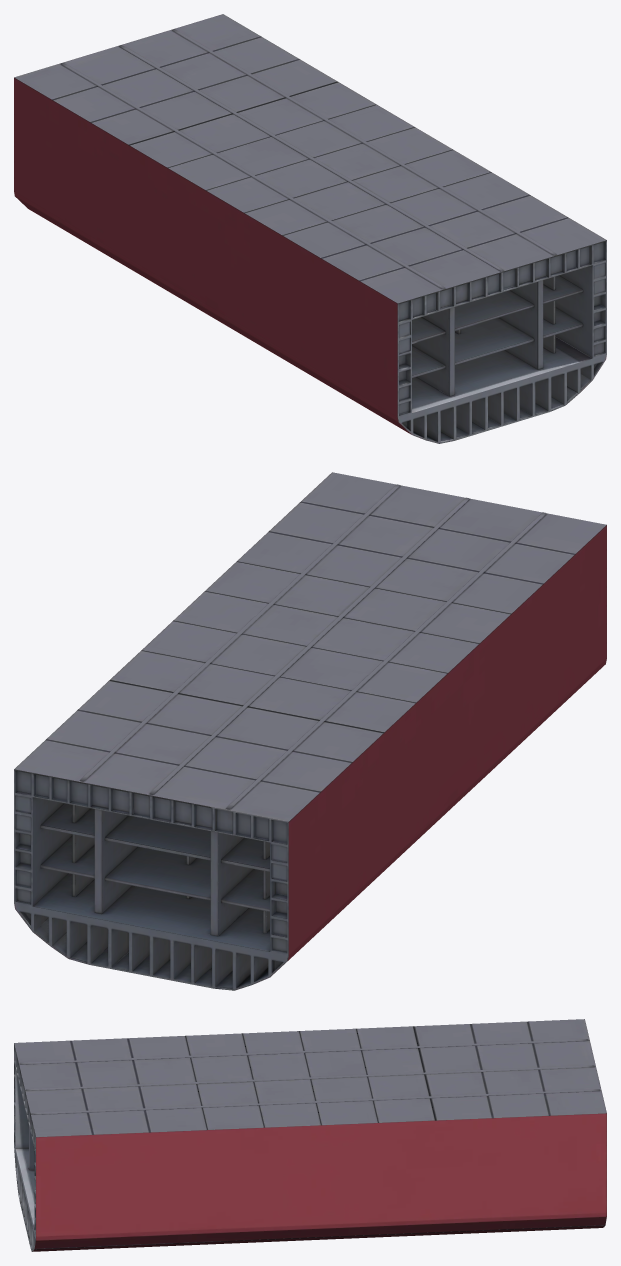
Rendered from Block_001.glb.
3 views of the same model, one above another, from view 1: azimuth 30°, elevation 25°; view 2: azimuth 150°, elevation 25°; view 3: azimuth 270°, elevation 25° (orthographic). The views are drawn at different scales.
Parts seen in each view (by area): view 1: Block_001; view 2: Block_001; view 3: Block_001.
Part boxes in pixels (<box>): Block_001: <box>14,14,606,443</box>; Block_001: <box>14,472,606,990</box>; Block_001: <box>14,1019,606,1251</box>.
Size of the model in its own units: 38.26 by 20.43 by 81.13.
Materials: 1 (1 with a texture image).
